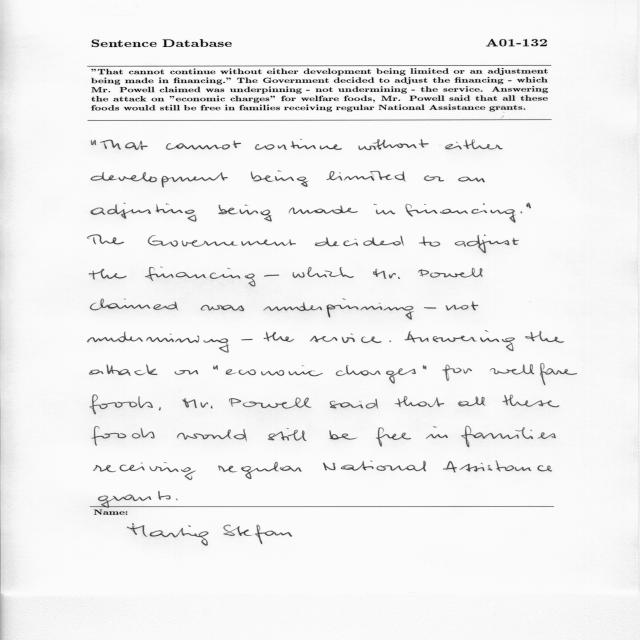word: (263, 299, 414, 320), (88, 332, 229, 353), (90, 491, 243, 507), (406, 203, 516, 223), (145, 267, 255, 287), (405, 331, 515, 351), (91, 172, 228, 187), (91, 203, 196, 222), (461, 426, 556, 447), (490, 364, 577, 386), (93, 462, 196, 480), (148, 235, 296, 247), (336, 365, 416, 384), (218, 462, 302, 479), (443, 461, 552, 473), (92, 426, 155, 446), (90, 395, 153, 414), (455, 235, 519, 253), (323, 461, 426, 472), (225, 366, 323, 377), (90, 299, 178, 311), (315, 236, 404, 247), (251, 171, 309, 187), (218, 205, 272, 222), (229, 398, 312, 409), (177, 429, 247, 441), (90, 364, 158, 376), (326, 171, 406, 181), (255, 141, 342, 150), (359, 139, 429, 150), (166, 140, 241, 150), (310, 333, 381, 343), (502, 395, 560, 407), (292, 267, 354, 278), (376, 428, 411, 447), (418, 268, 483, 278), (445, 139, 503, 150), (289, 206, 357, 214), (395, 396, 444, 407), (100, 139, 148, 150), (268, 428, 306, 441), (442, 365, 472, 381), (330, 399, 378, 409), (525, 331, 564, 343), (90, 269, 127, 280), (87, 235, 124, 245), (182, 398, 213, 409), (264, 331, 294, 342), (446, 301, 479, 310), (426, 426, 448, 439), (458, 397, 486, 407), (329, 430, 357, 440), (373, 269, 400, 279), (201, 305, 244, 311), (419, 236, 440, 247), (374, 204, 395, 214), (458, 177, 485, 182), (424, 176, 444, 182), (175, 370, 199, 375), (264, 275, 279, 277), (91, 140, 96, 145), (526, 203, 531, 208), (213, 365, 218, 370), (424, 307, 436, 309), (423, 365, 426, 370), (241, 339, 253, 340), (159, 407, 161, 410), (521, 212, 523, 214), (389, 340, 391, 342), (176, 499, 178, 501)
